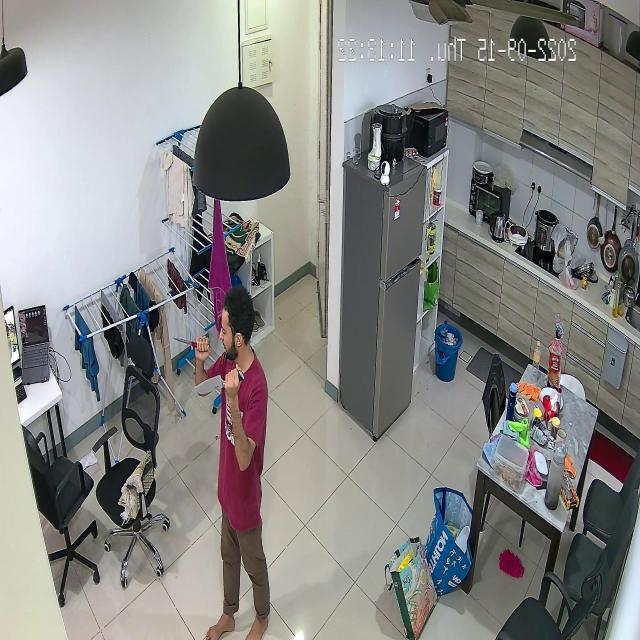Knife: (184, 361, 246, 402), (173, 326, 210, 355)
